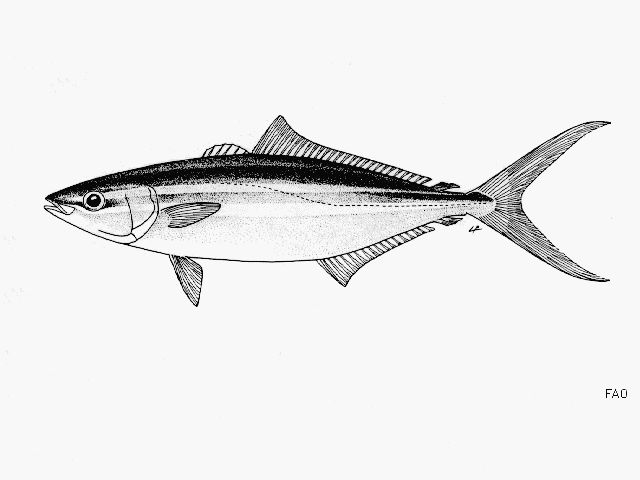fish: (44, 116, 613, 307)
